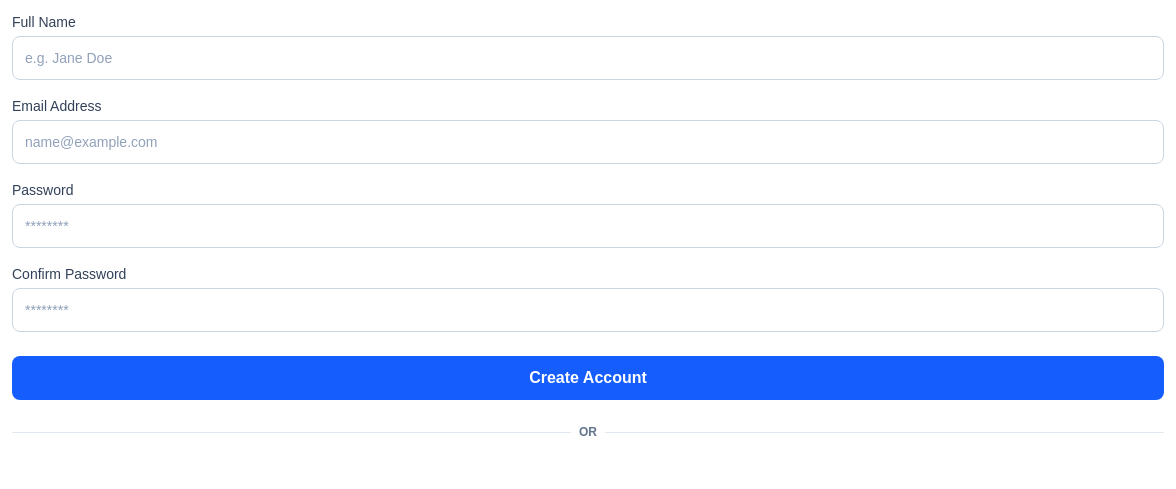
Test: InputForm (register) › shows the server error message when registration fails
Type "Jane Doe" into the field labelled "Full Name" at point(588, 58), box x1=12 y1=36 x2=1164 y2=80
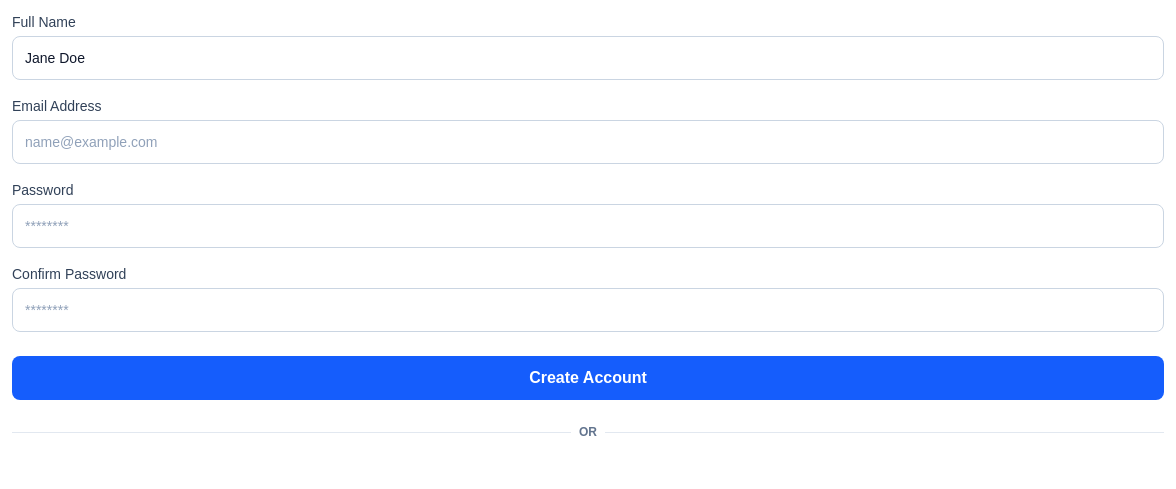
Type "jane@example.com" into the field labelled "Email Address" at point(588, 142), box x1=12 y1=120 x2=1164 y2=164
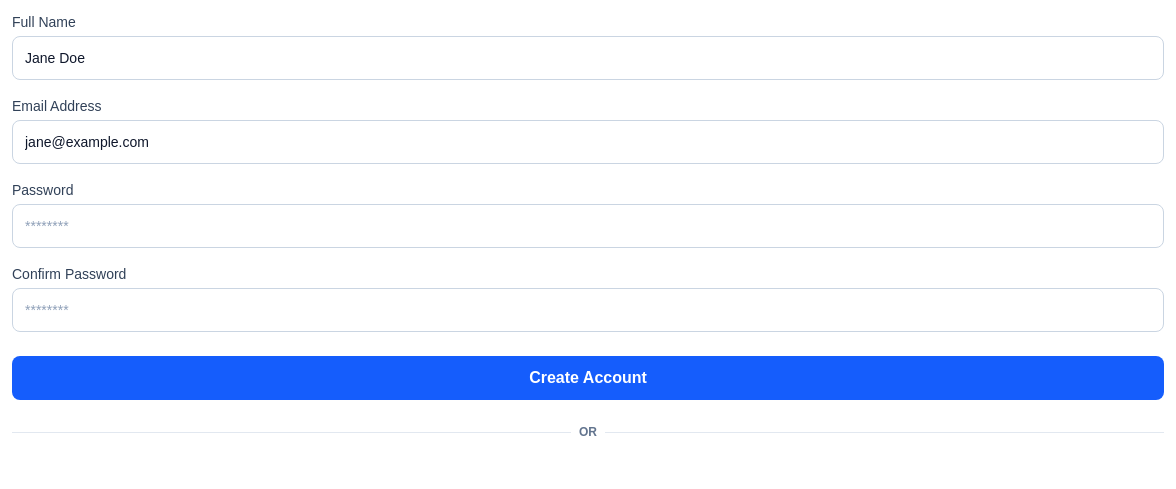
Type "secret123" into the password field labelled "Password" at point(588, 226), box x1=12 y1=204 x2=1164 y2=248
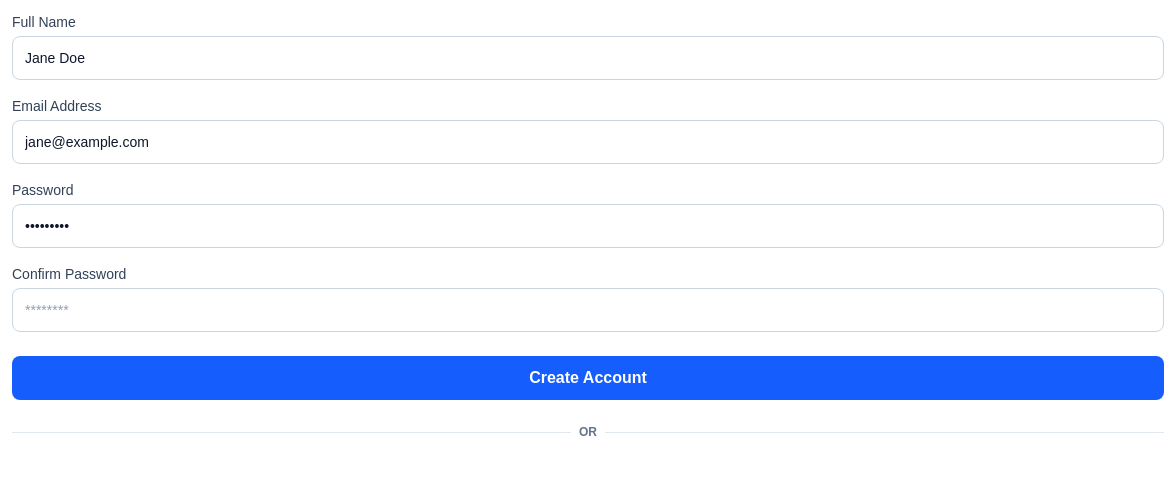
Type "secret123" into the password field labelled "Confirm Password" at point(588, 310), box x1=12 y1=288 x2=1164 y2=332
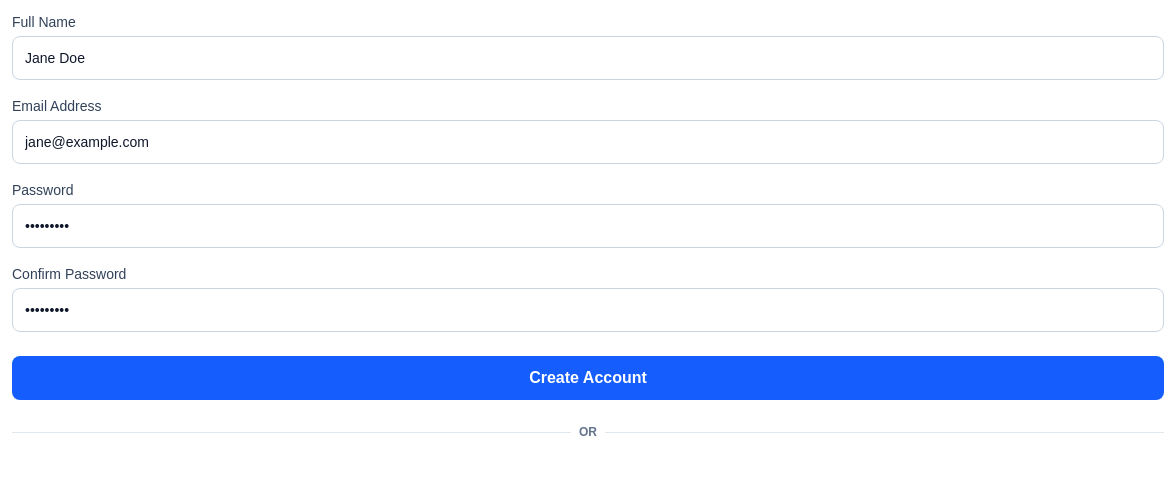
Click the button "Create Account" at point(588, 378), box x1=12 y1=356 x2=1164 y2=400
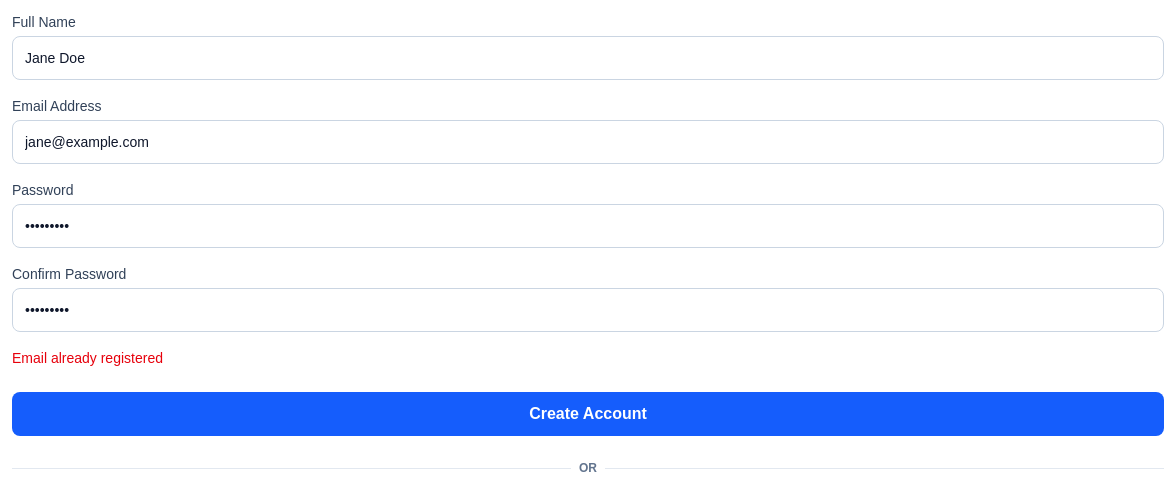
Expected: the text "Email already registered" is shown, x1=12 y1=350 x2=163 y2=366
